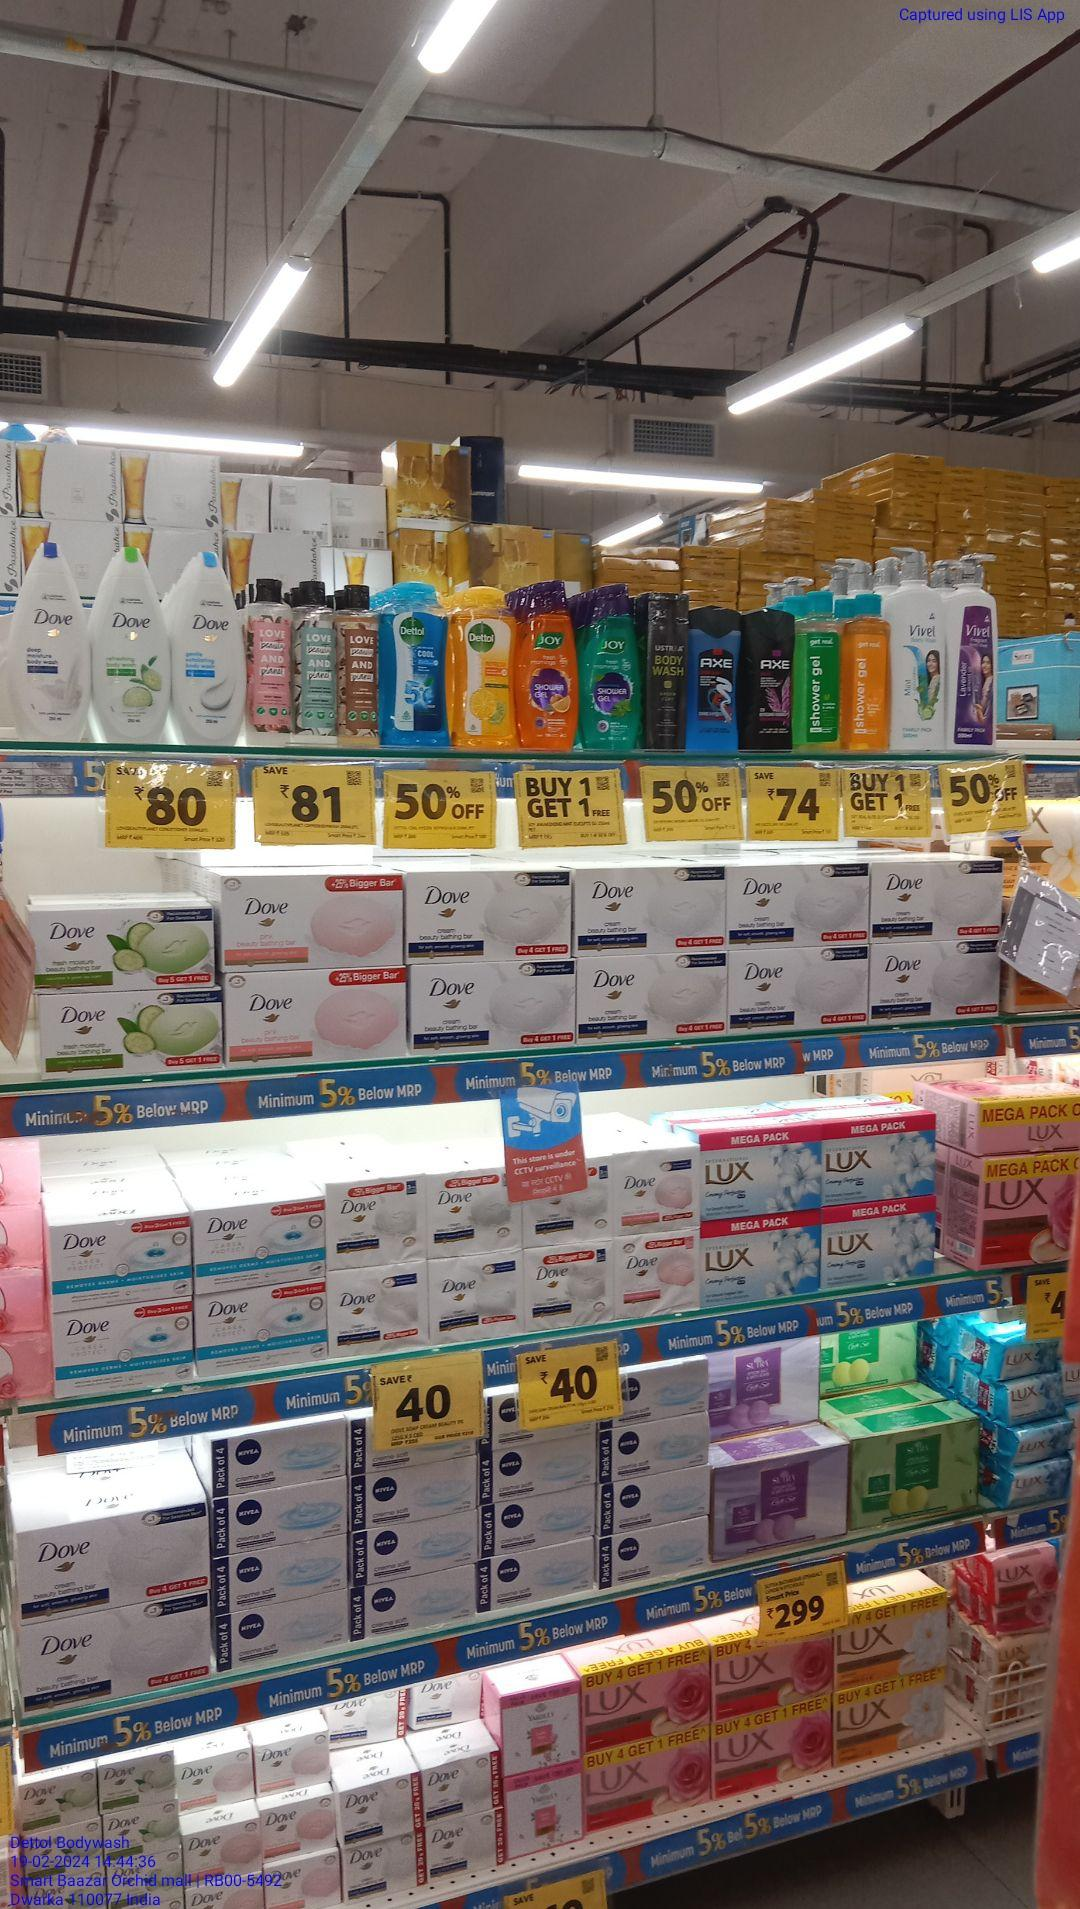Dettol_Bodywash_Cool: (379, 581, 447, 747)
Dettol_Bodywash_Refresh: (452, 583, 520, 750)
Dove_Deep_Moisture_Body_Wash_250ML: (12, 535, 90, 742)
Dove_Gentle_Exfoliating_Body_Wash_250ML: (177, 547, 242, 745)
Dove_Refreshing_Body_Wash_250ML: (93, 544, 170, 742)
Joy_Shower_Gel_Mandarin_and_Lemongrass_250ML: (524, 580, 578, 747)
Joy_Shower_Gel_Mint_and_Eucalyptus_250ML: (583, 581, 645, 753)
